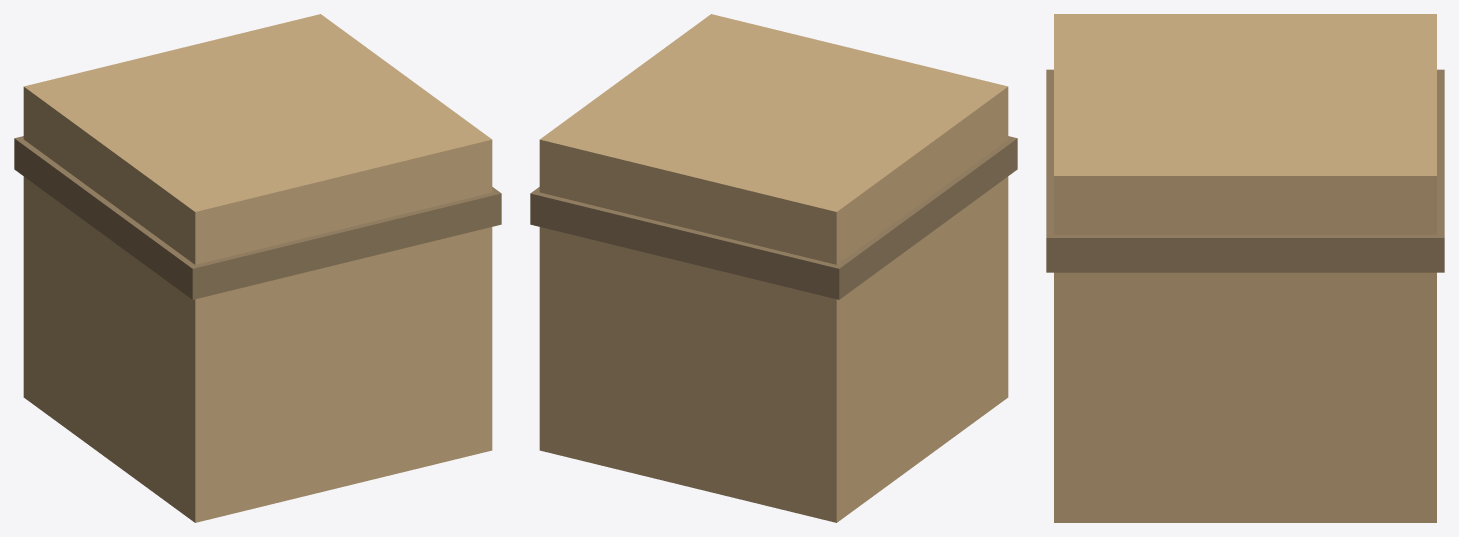
File: crate.gltf
The picture shows the model from 3 angles, left to right: view 1: azimuth 30°, elevation 25°; view 2: azimuth 150°, elevation 25°; view 3: azimuth 270°, elevation 25°; orthographic projection. The views are drawn at different scales.
Visible parts, largest first — view 1: body, band; view 2: body, band; view 3: body, band.
Boxes of the visible parts, x1,y1,x2,y2 form: body: (23,14,492,522); band: (14,136,501,299); body: (539,14,1008,522); band: (530,136,1017,299); body: (1054,14,1436,522); band: (1046,69,1444,272).
Size of the model in its own units: 1.04 by 1 by 1.04.
